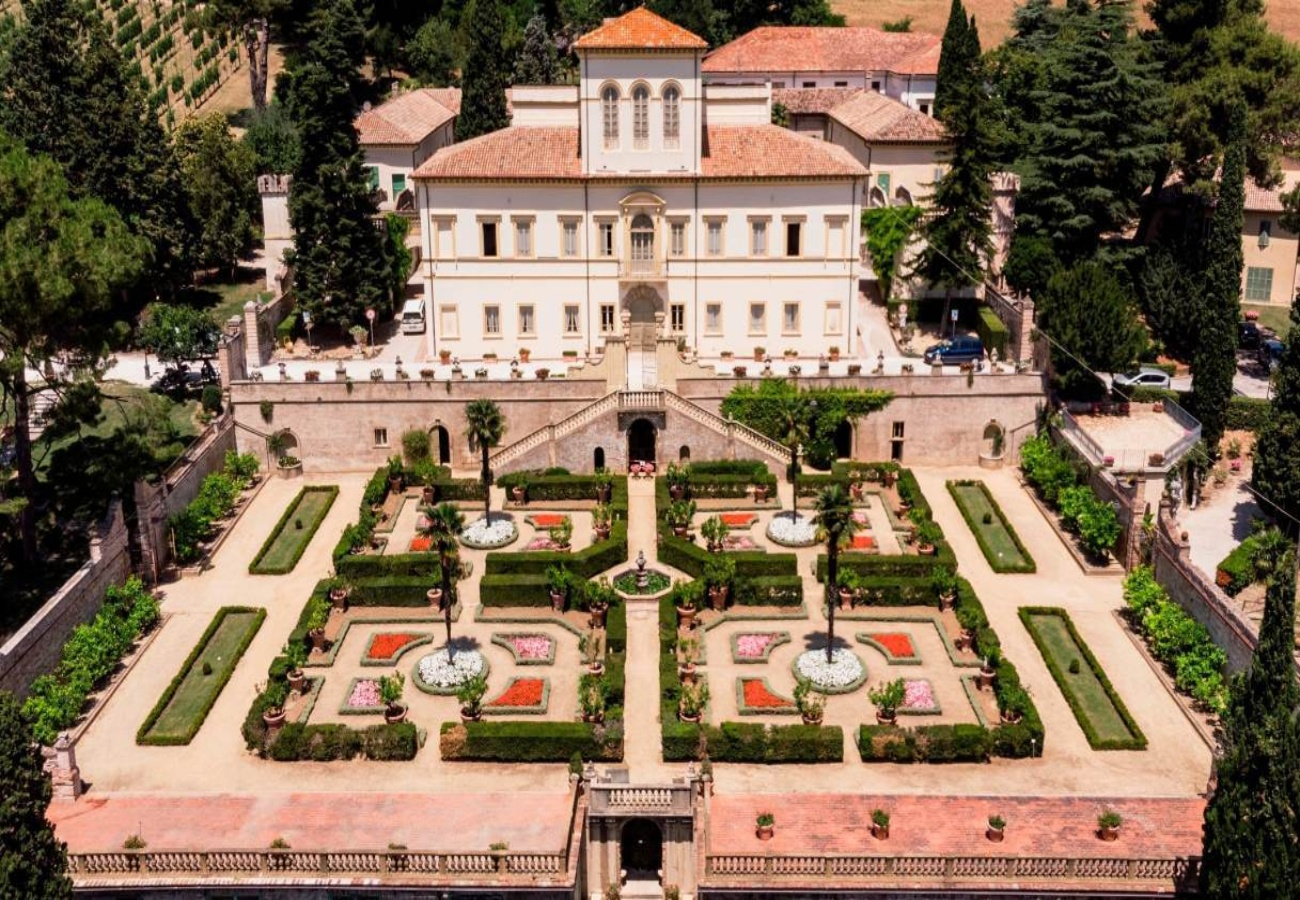Villa Caprile: (402, 1, 877, 362)
